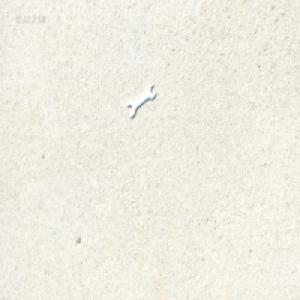Wrench: (127, 83, 157, 118)
